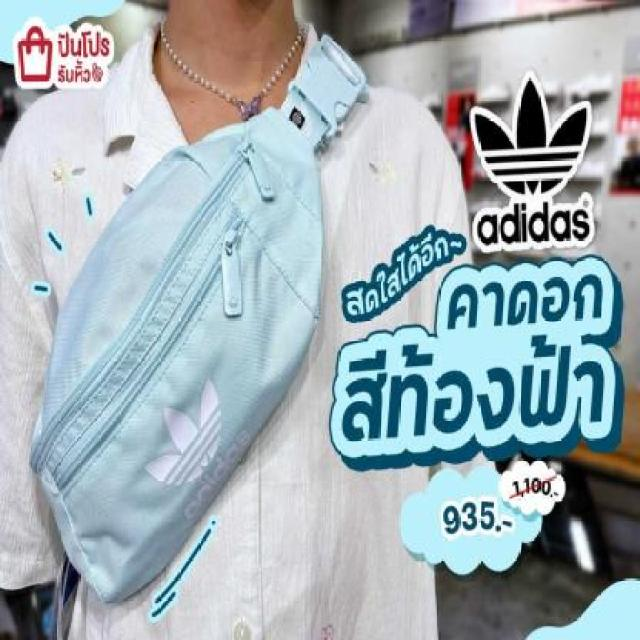Bag: (0, 0, 363, 600)
